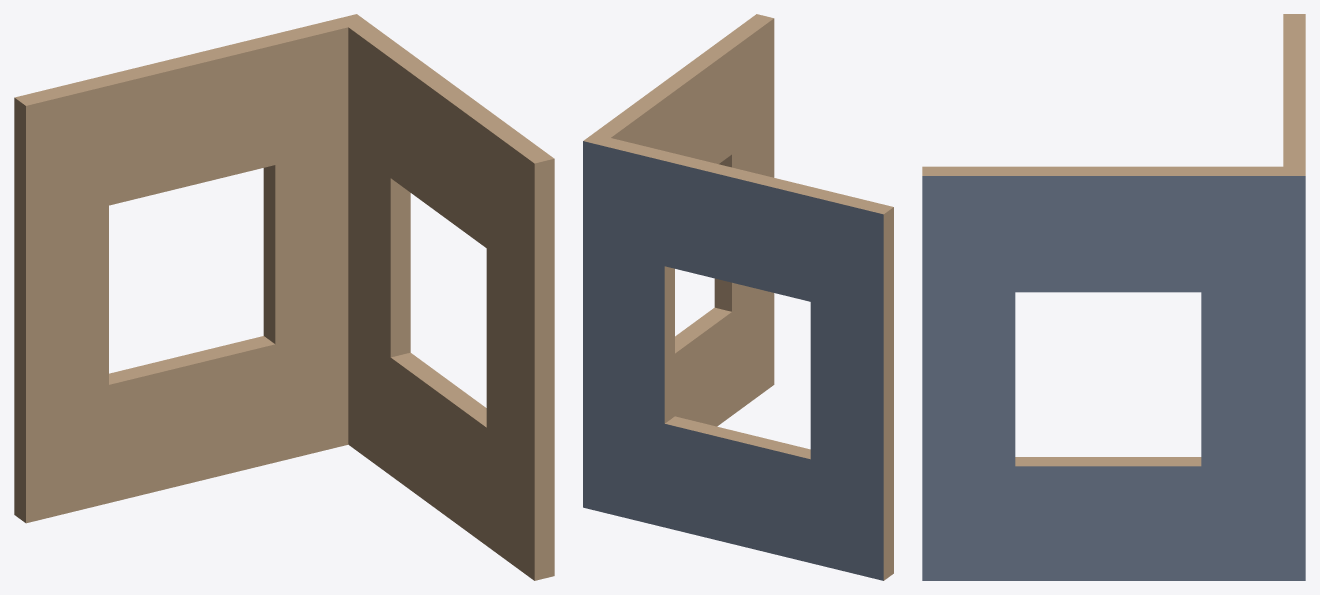
File: Wall3_C3_12.fbx
The picture shows the model from 3 angles, left to right: view 1: azimuth 30°, elevation 25°; view 2: azimuth 150°, elevation 25°; view 3: azimuth 270°, elevation 25°; orthographic projection. The views are drawn at different scales.
Visible parts, largest first — view 1: Wall3_C3_12; view 2: Wall3_C3_12; view 3: Wall3_C3_12.
Part boxes in pixels (left/top/right/bottom): Wall3_C3_12: left=14, top=14, right=554, bottom=580; Wall3_C3_12: left=583, top=14, right=893, bottom=580; Wall3_C3_12: left=922, top=14, right=1305, bottom=580.
Size of the model in its own units: 258 by 300 by 258.
